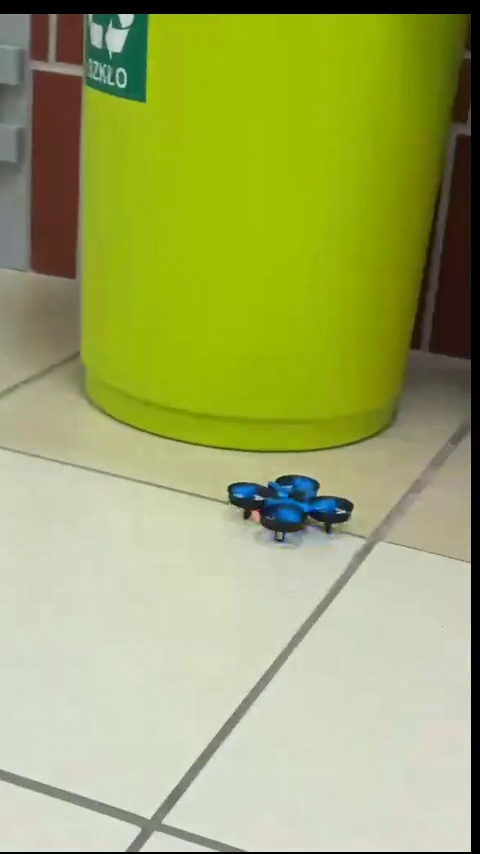drone: (232, 473, 354, 543)
